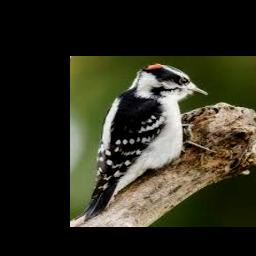Woodpecker: (75, 63, 218, 221)
